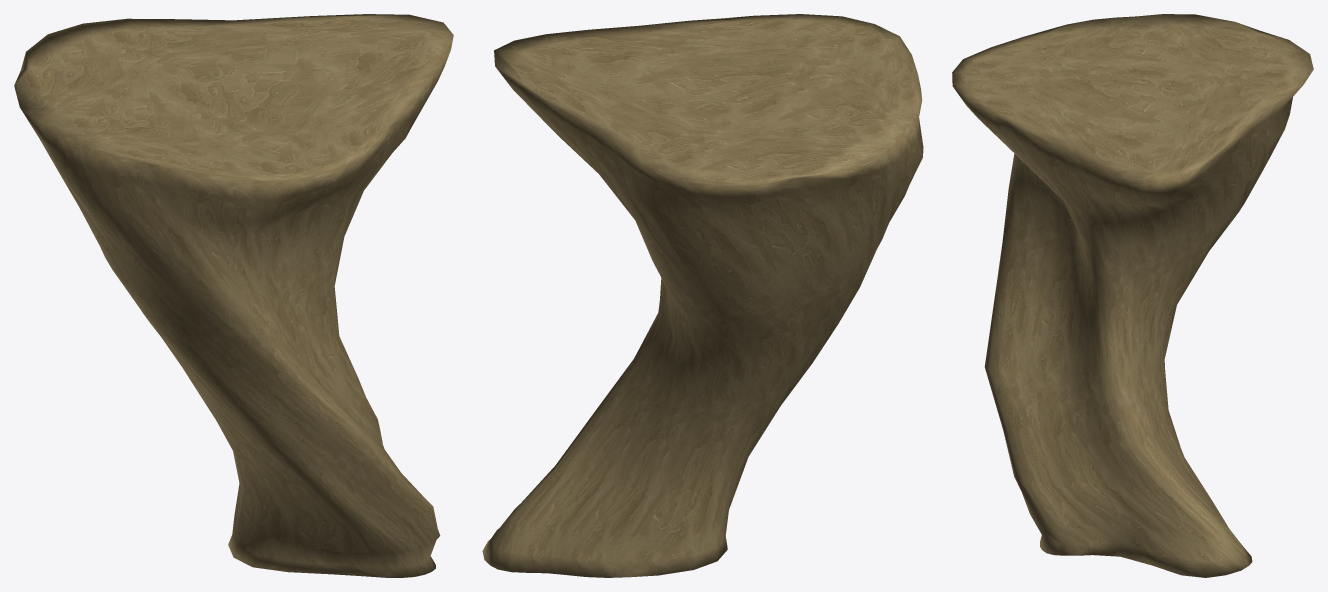
The model's file is SB_PLATFORMC.fbx.
3 renders of one model, left to right at view 1: azimuth 30°, elevation 25°; view 2: azimuth 150°, elevation 25°; view 3: azimuth 270°, elevation 25°, orthographic. The views are drawn at different scales.
Visible parts, largest first — view 1: SB_PLATFORMC; view 2: SB_PLATFORMC; view 3: SB_PLATFORMC.
Boxes of the visible parts, x1=… form: SB_PLATFORMC: x1=14, y1=14, x2=453, y2=577; SB_PLATFORMC: x1=482, y1=14, x2=923, y2=577; SB_PLATFORMC: x1=952, y1=14, x2=1313, y2=577.
Size of the model in its own units: 124572 by 140289 by 113670.
1 material, 1 textured.
